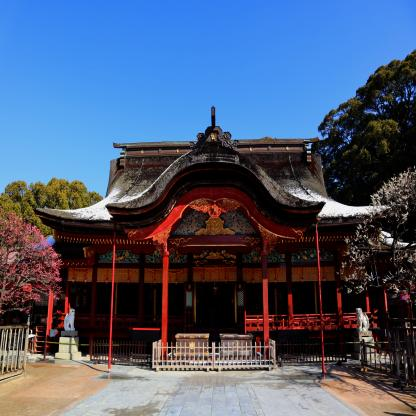Ume: (336, 163, 416, 305), (0, 207, 64, 314)
